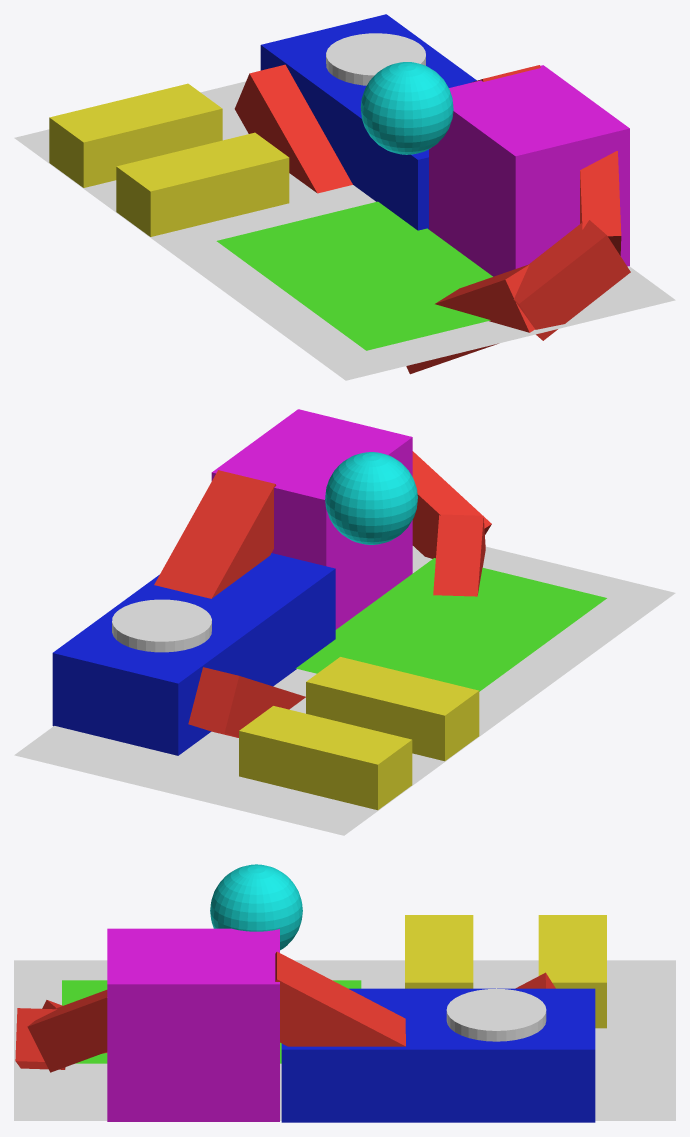
The model's file is Level Prototype V1.fbx.
3 views of the same model, one above another, from view 1: azimuth 30°, elevation 25°; view 2: azimuth 150°, elevation 25°; view 3: azimuth 270°, elevation 25° (orthographic).
Parts seen in each view (by area): view 1: Cube.025, Plane.007, Plane.006, Cube.024, Cube.023, Cube.026, Cube.029, Cube.027, Sphere, Cube.028, Cylinder, Cube.030; view 2: Cube.024, Plane.006, Plane.007, Cube.025, Cube.026, Cube.023, Cube.031, Sphere, Cube.027, Cylinder, Cube.028, Cube.029; view 3: Cube.025, Cube.024, Plane.006, Cube.031, Sphere, Cube.026, Cube.023, Cylinder, Cube.030, Cube.029, Plane.007.
Boxes of the visible parts, x1=… form: Cube.025: x1=429, y1=65, x2=629, y2=276; Plane.007: x1=216, y1=201, x2=492, y2=350; Plane.006: x1=14, y1=81, x2=675, y2=380; Cube.024: x1=260, y1=14, x2=476, y2=230; Cube.023: x1=116, y1=132, x2=289, y2=236; Cube.026: x1=49, y1=83, x2=222, y2=187; Cube.029: x1=513, y1=220, x2=630, y2=340; Cube.027: x1=234, y1=64, x2=352, y2=193; Sphere: x1=360, y1=62, x2=453, y2=154; Cube.028: x1=406, y1=264, x2=534, y2=374; Cylinder: x1=326, y1=33, x2=425, y2=85; Cube.030: x1=580, y1=151, x2=621, y2=255; Cube.024: x1=52, y1=553, x2=335, y2=755; Plane.006: x1=14, y1=546, x2=675, y2=835; Plane.007: x1=296, y1=558, x2=606, y2=691; Cube.025: x1=211, y1=409, x2=412, y2=629; Cube.026: x1=239, y1=706, x2=412, y2=810; Cube.023: x1=306, y1=657, x2=479, y2=761; Cube.031: x1=154, y1=470, x2=276, y2=598; Sphere: x1=325, y1=452, x2=417, y2=544; Cube.027: x1=188, y1=667, x2=305, y2=737; Cylinder: x1=112, y1=599, x2=211, y2=652; Cube.028: x1=433, y1=514, x2=485, y2=596; Cube.029: x1=412, y1=451, x2=491, y2=558; Cube.025: x1=107, y1=928, x2=279, y2=1121; Cube.024: x1=281, y1=988, x2=595, y2=1122; Plane.006: x1=14, y1=960, x2=675, y2=1120; Cube.031: x1=275, y1=951, x2=405, y2=1046; Sphere: x1=210, y1=864, x2=302, y2=950; Cube.026: x1=538, y1=915, x2=606, y2=1028; Cube.023: x1=405, y1=915, x2=473, y2=988; Cylinder: x1=446, y1=988, x2=546, y2=1041; Cube.030: x1=27, y1=990, x2=107, y2=1072; Cube.029: x1=15, y1=1008, x2=65, y2=1069; Plane.007: x1=62, y1=980, x2=361, y2=1063.
Size of the model in its own units: 4289 by 3169 by 7424.
